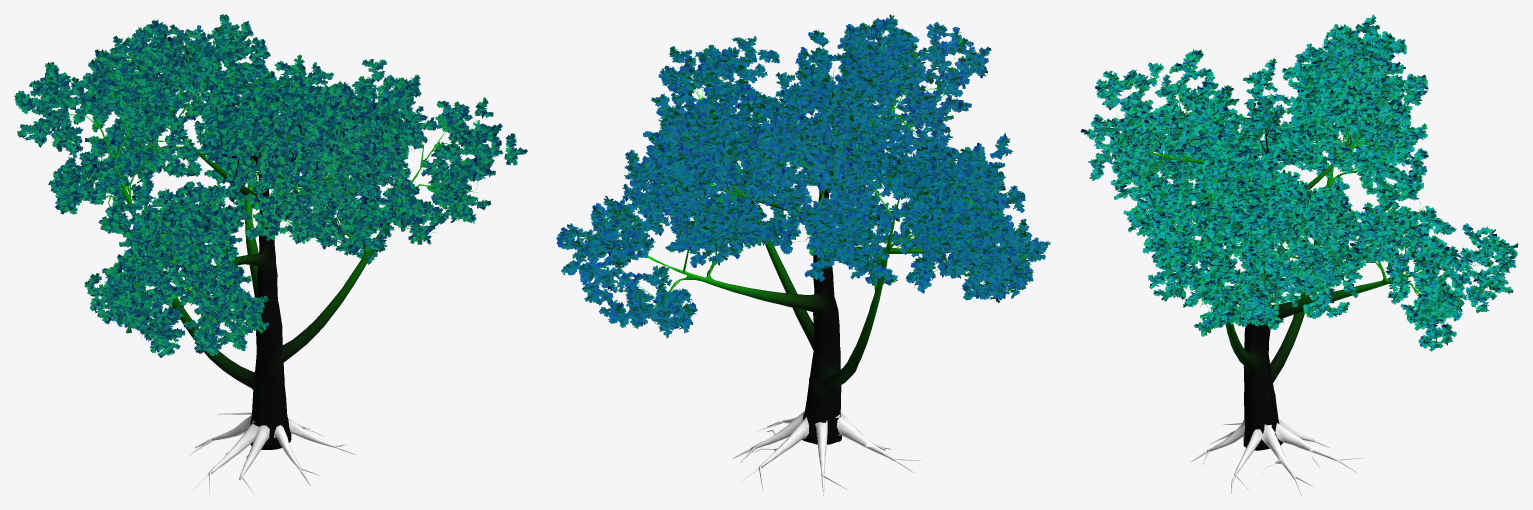
The picture shows the model from 3 angles, left to right: view 1: azimuth 30°, elevation 25°; view 2: azimuth 150°, elevation 25°; view 3: azimuth 270°, elevation 25°; orthographic projection. The views are drawn at different scales.
Visible parts, largest first — view 1: Foliage, Trunk, Branches, Roots, Twigs; view 2: Foliage, Branches, Trunk, Roots, Twigs; view 3: Foliage, Trunk, Branches, Roots, Twigs, RootTips.
Part boxes in pixels (x1,y1,x2,y2): Foliage: (14, 14, 527, 357); Trunk: (250, 152, 291, 449); Branches: (107, 126, 425, 389); Roots: (207, 413, 336, 480); Twigs: (48, 64, 477, 338); Foliage: (556, 14, 1050, 338); Branches: (663, 109, 941, 390); Trunk: (802, 188, 841, 444); Roots: (750, 411, 896, 476); Twigs: (599, 41, 1010, 324); Foliage: (1080, 14, 1518, 351); Trunk: (1243, 240, 1282, 450); Branches: (1160, 131, 1419, 382); Roots: (1206, 419, 1338, 479); Twigs: (1105, 76, 1496, 340); RootTips: (1191, 422, 1365, 495).
Size of the model in its own units: 55639 by 55267 by 57410.
